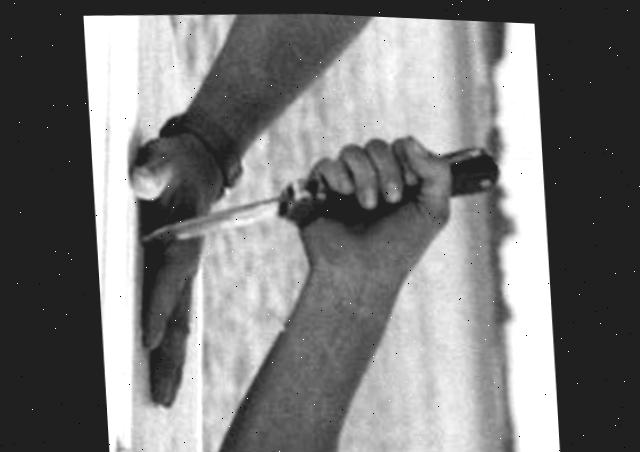pocket-knife: (131, 124, 414, 274)
